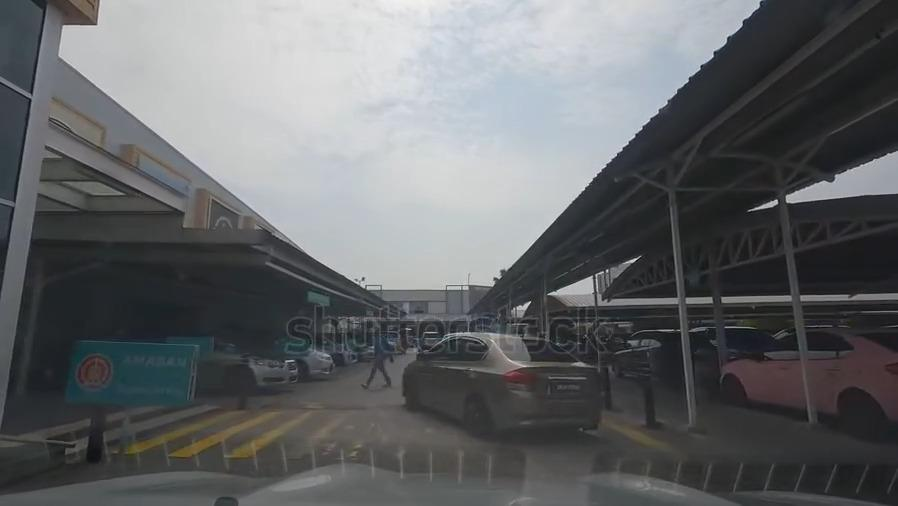car: (404, 337, 598, 428), (721, 327, 897, 418), (610, 334, 714, 385), (196, 337, 295, 388), (297, 343, 327, 375), (327, 342, 355, 361), (421, 329, 438, 347)
pedestrian: (112, 420, 679, 467)
person: (368, 323, 391, 387)
speedbump: (260, 399, 407, 415)
wheel: (465, 395, 488, 435), (225, 366, 251, 390)
